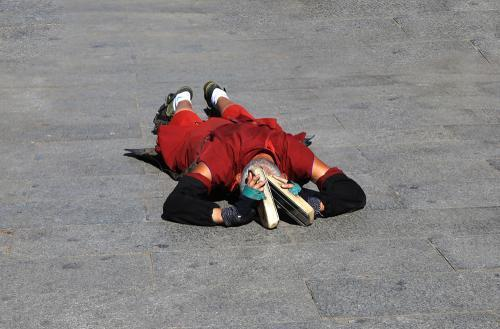Fall-Detected: (135, 61, 367, 238)
